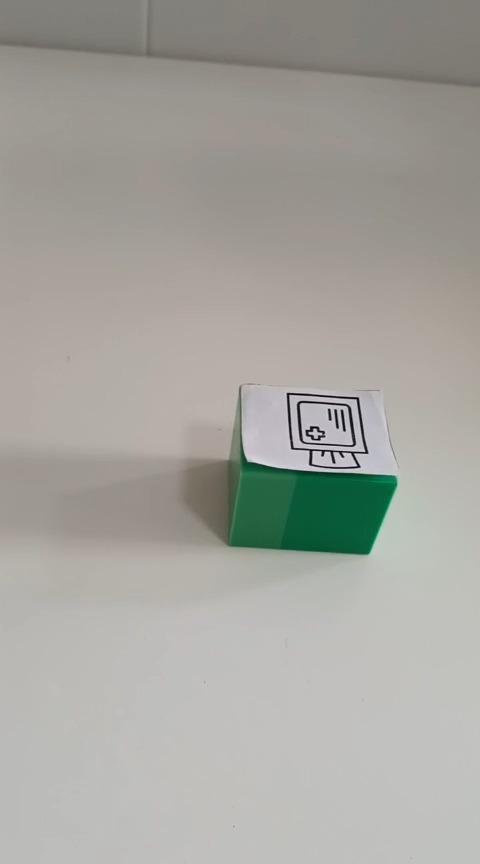Gauze: (225, 381, 399, 555)
